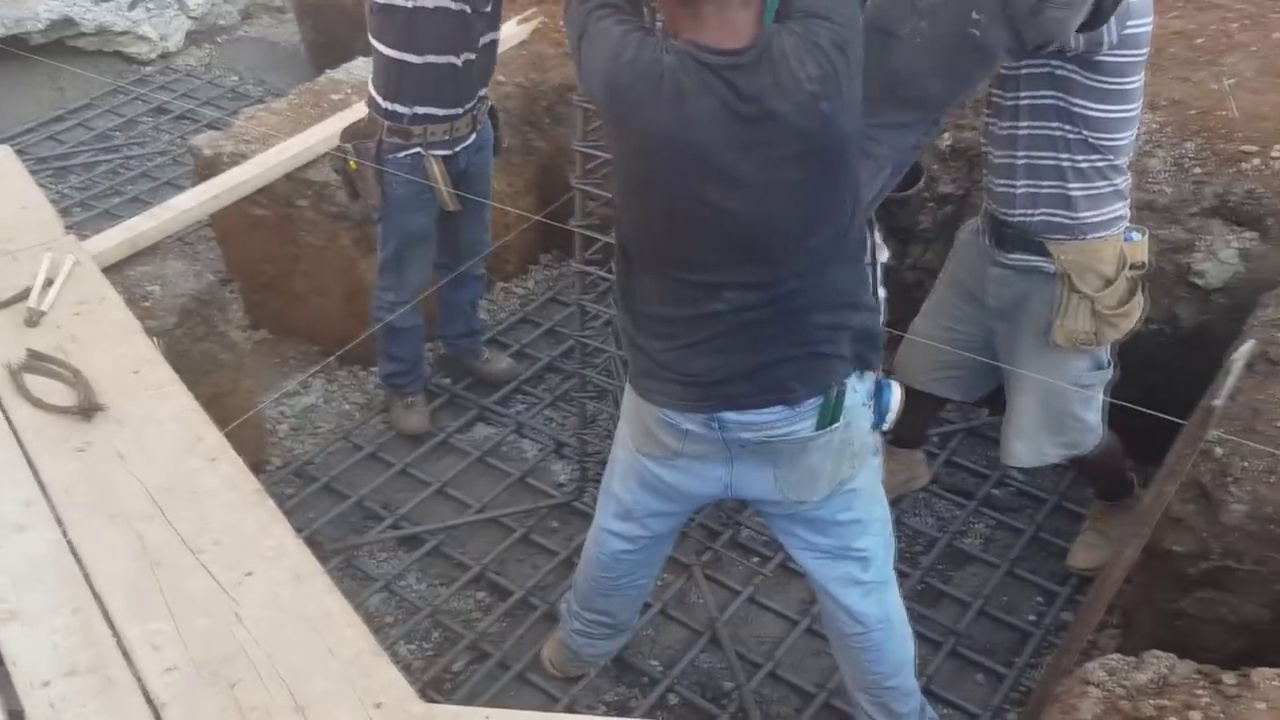person: (526, 0, 959, 720), (888, 0, 1167, 570), (333, 0, 517, 438)
